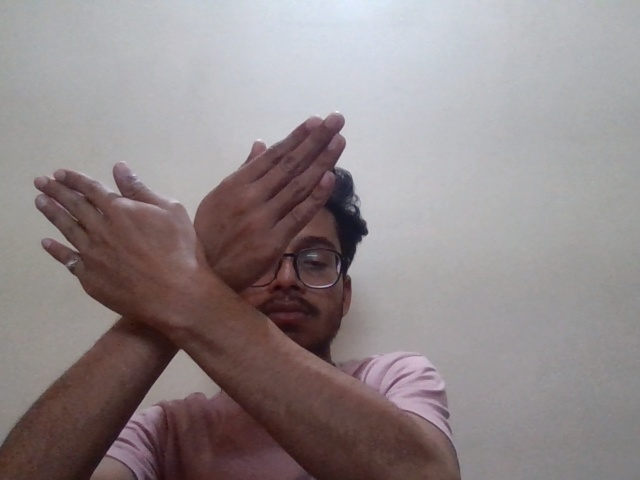feel: (31, 102, 369, 343)
